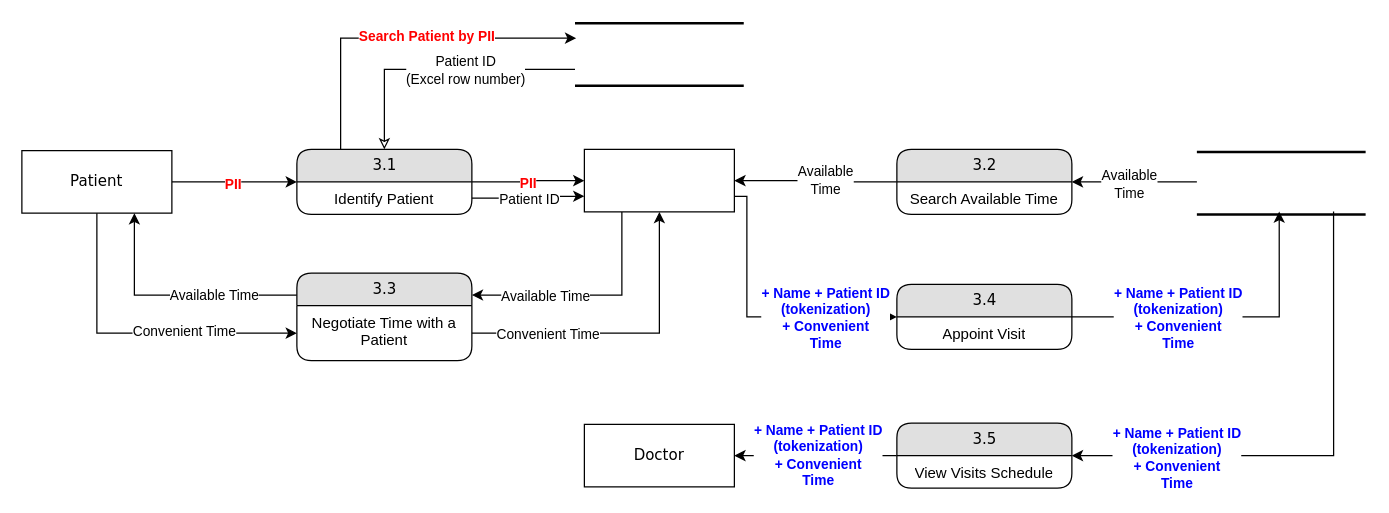
This 1389x513 diagram has some shape labels left out. Here are the shapes that lost their labels. From the top down, the centre of each, then its label:
the point at 658,53: Patients Excel file
the point at 658,180: Reception
the point at 1280,182: Journal Doctor FIO X Excel file
